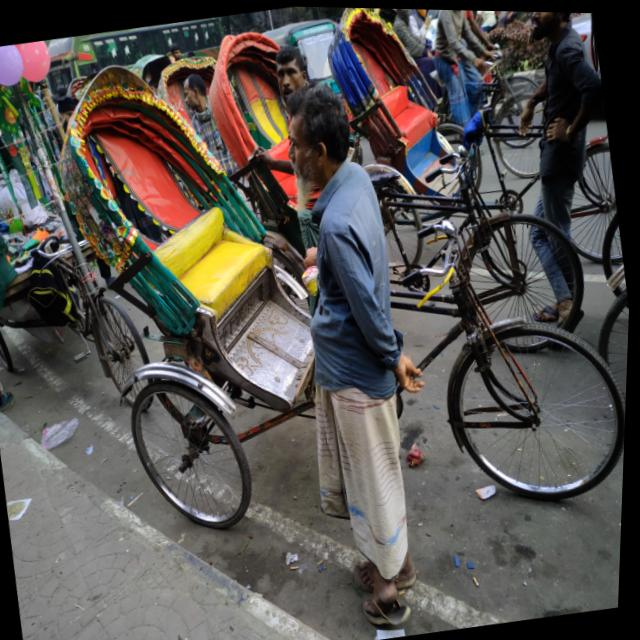rikshaw: (32, 23, 639, 626), (182, 3, 532, 362), (300, 5, 620, 309)
